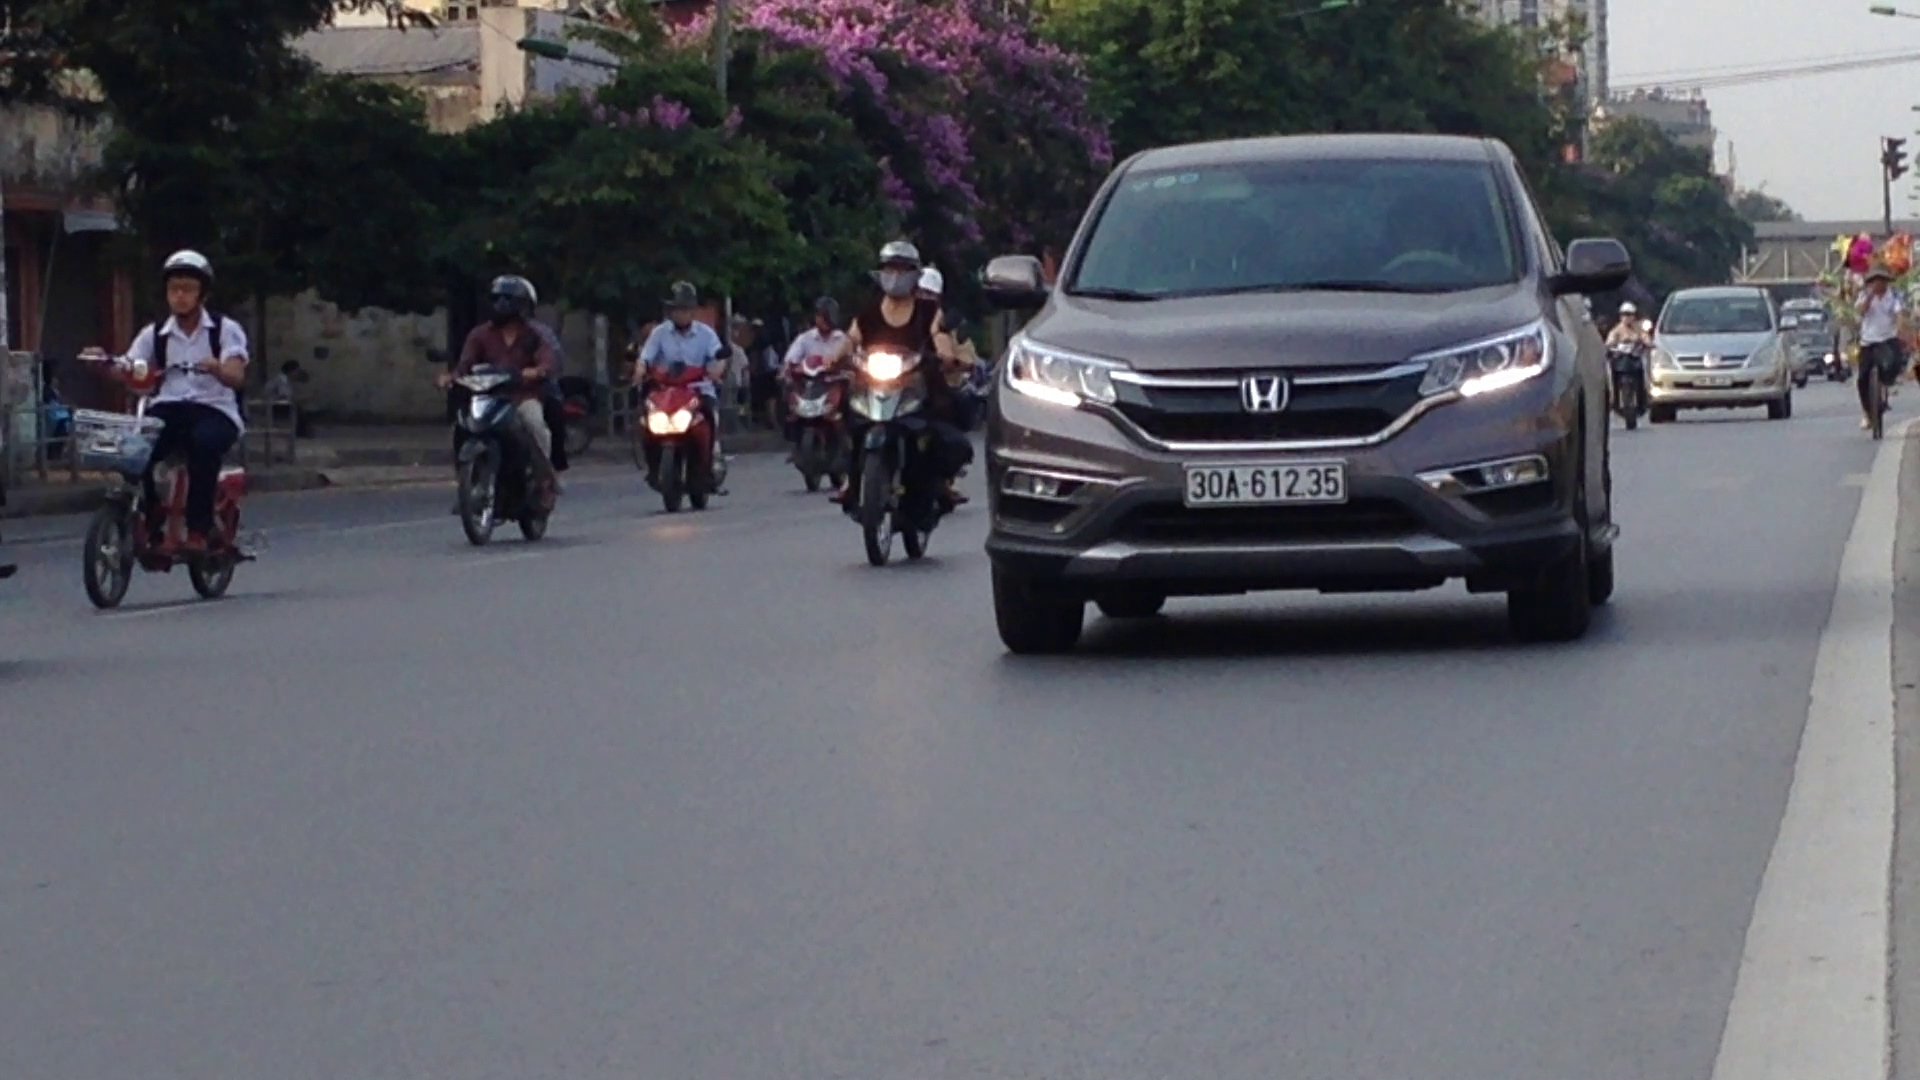vehicle-plate: (1178, 451, 1353, 510)
